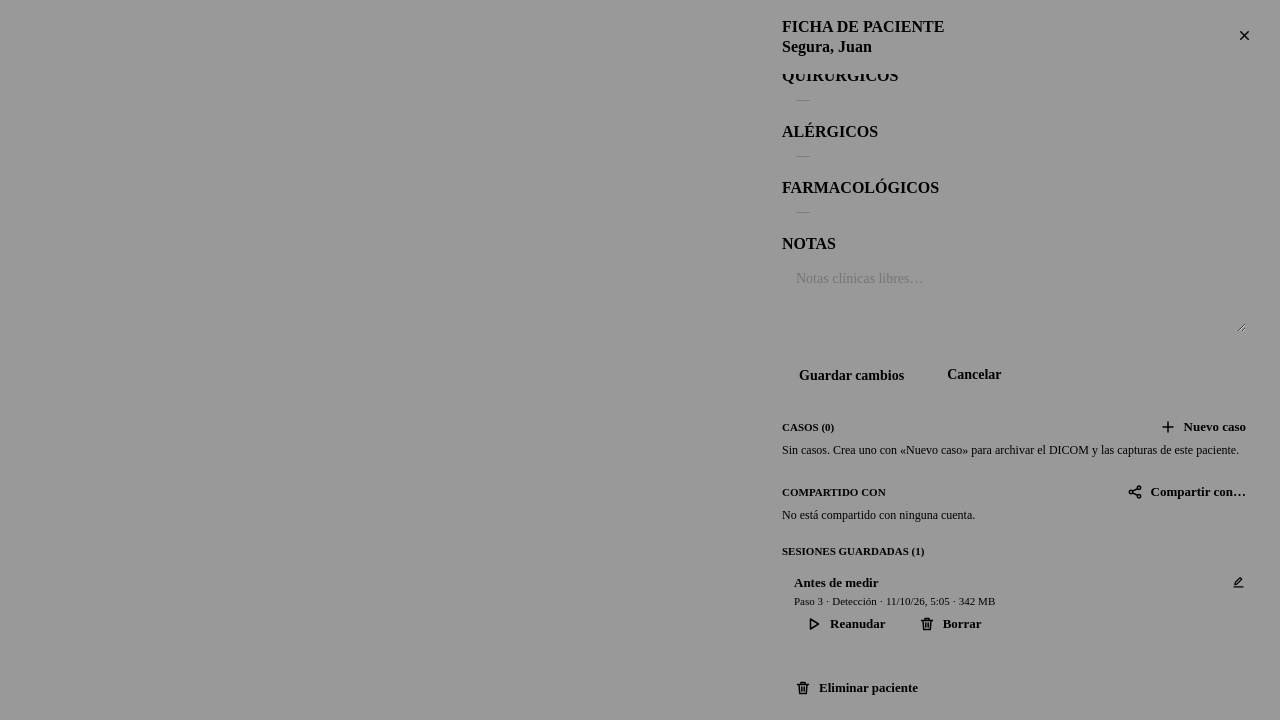
it: sesiones guardadas (F2-30, F2-73, F2-74, F1-69) › Escape cancela el nombre sin cerrar la ficha
(page scrolled)
Click the button named "Renombrar «Antes de medir»". click: (1238, 583)
box: x1=1231 y1=575 x2=1246 y2=590
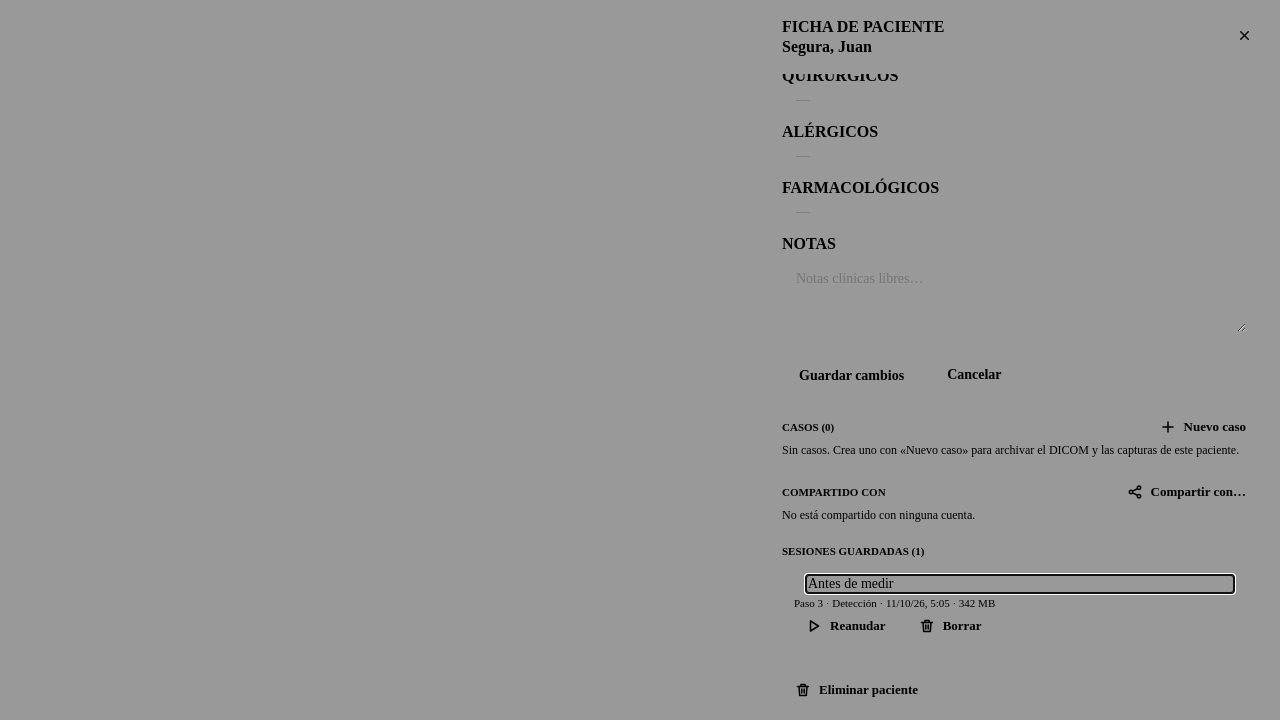
Replace the text in the field named "Nombre de la sesión guardada" with "otro". click: (1020, 584)
box: x1=806 y1=575 x2=1234 y2=593
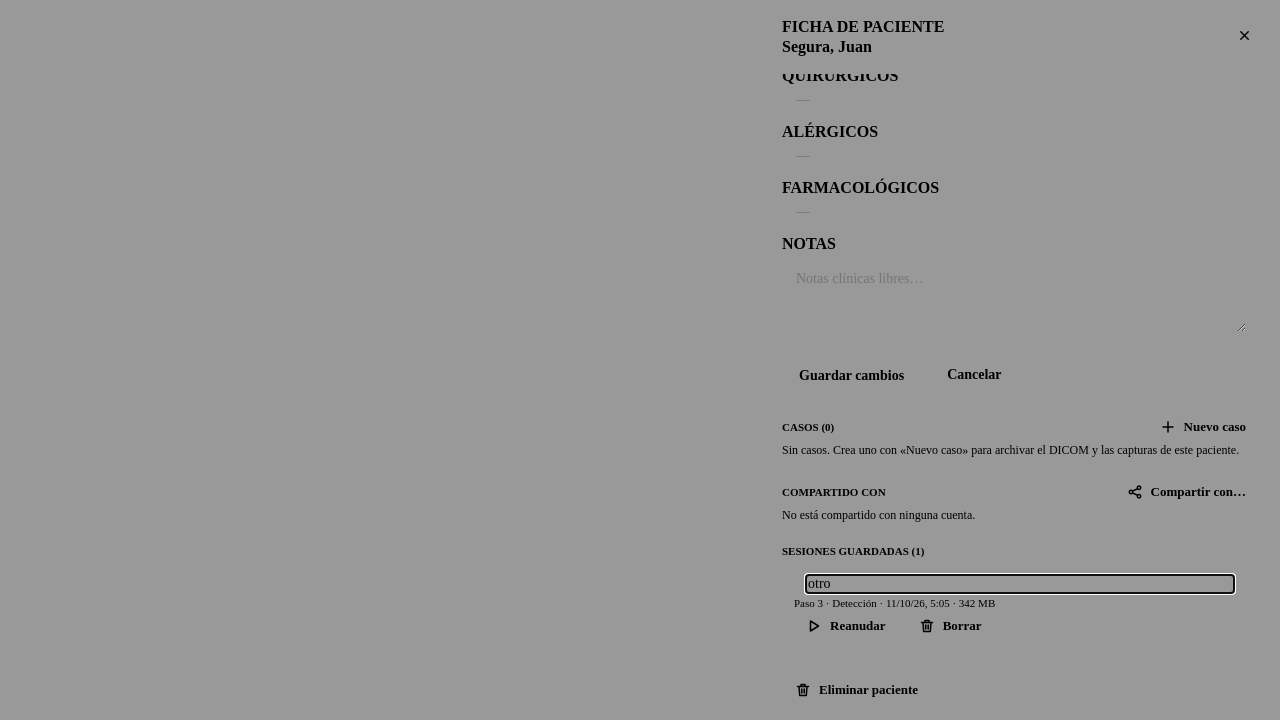
Press Escape in the field named "Nombre de la sesión guardada", box x1=806 y1=575 x2=1234 y2=593
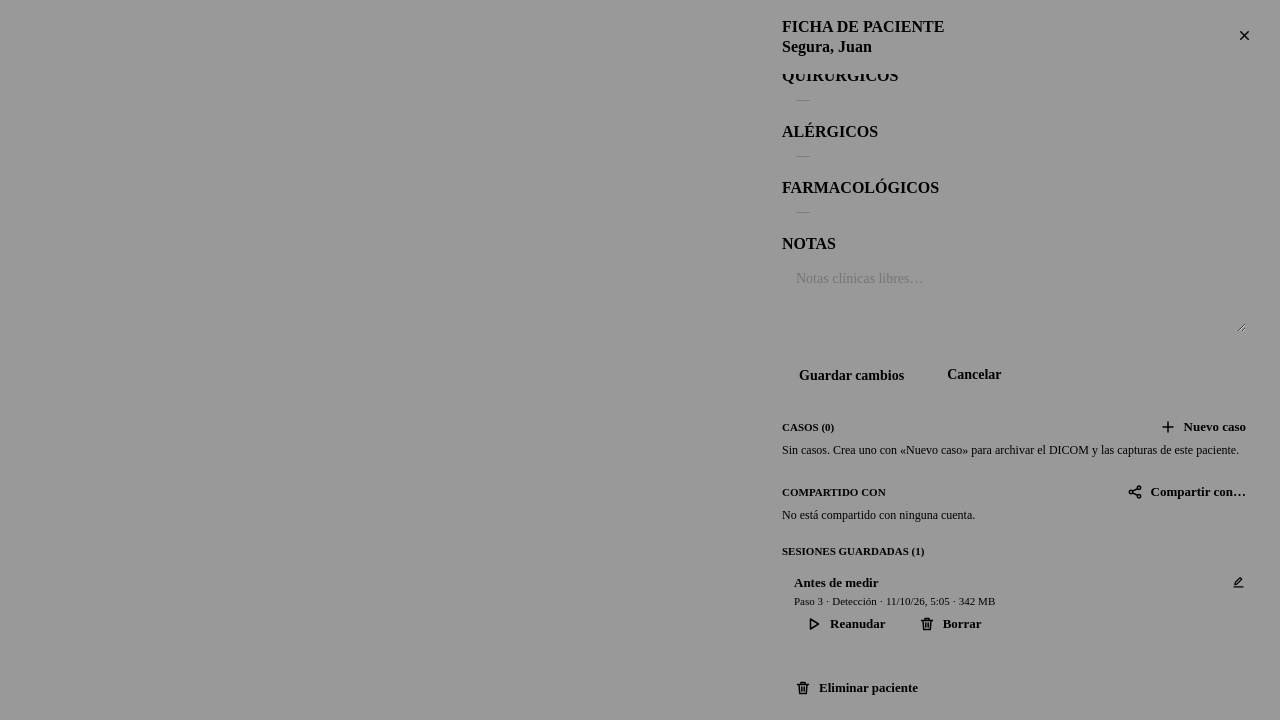
Check: the text "Antes de medir" is shown, box x1=794 y1=575 x2=878 y2=590
